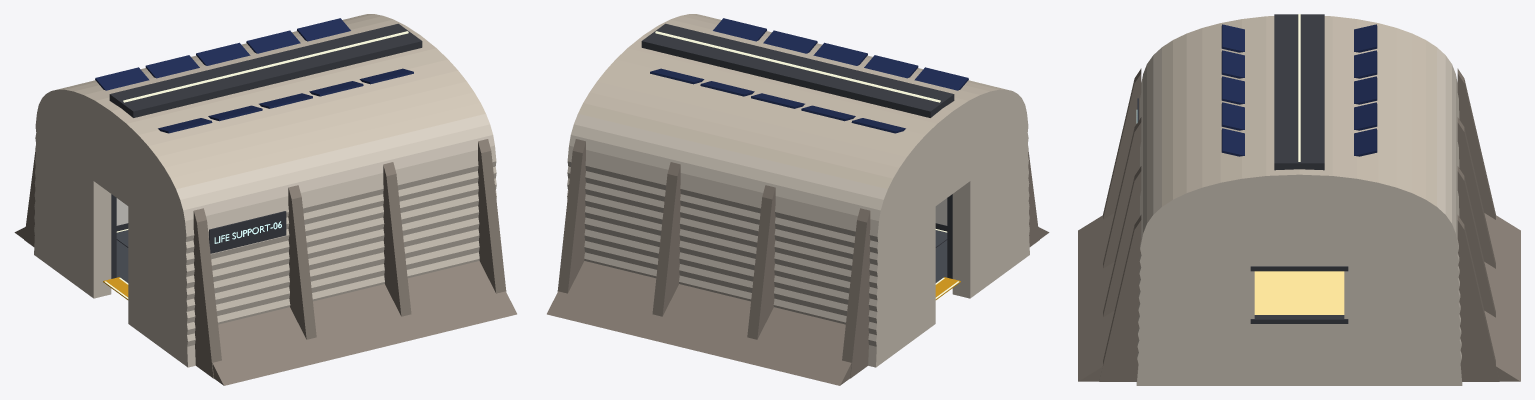
Rendered from LifeSupport.fbx.
3 renders of one model, left to right at view 1: azimuth 30°, elevation 25°; view 2: azimuth 150°, elevation 25°; view 3: azimuth 270°, elevation 25°, orthographic. The views are drawn at different scales.
Parts seen in each view (by area): view 1: LifeSupport solid, LifeSupport trim; view 2: LifeSupport solid, LifeSupport trim; view 3: LifeSupport solid, LifeSupport trim.
Part boxes in pixels (x1,y1,x2,y2): LifeSupport solid: [14, 14, 516, 385]; LifeSupport trim: [95, 18, 422, 299]; LifeSupport solid: [547, 14, 1049, 385]; LifeSupport trim: [641, 18, 968, 299]; LifeSupport solid: [1078, 16, 1520, 385]; LifeSupport trim: [1136, 14, 1377, 323].
Size of the model in its own units: 6.79 by 4.32 by 7.92.
